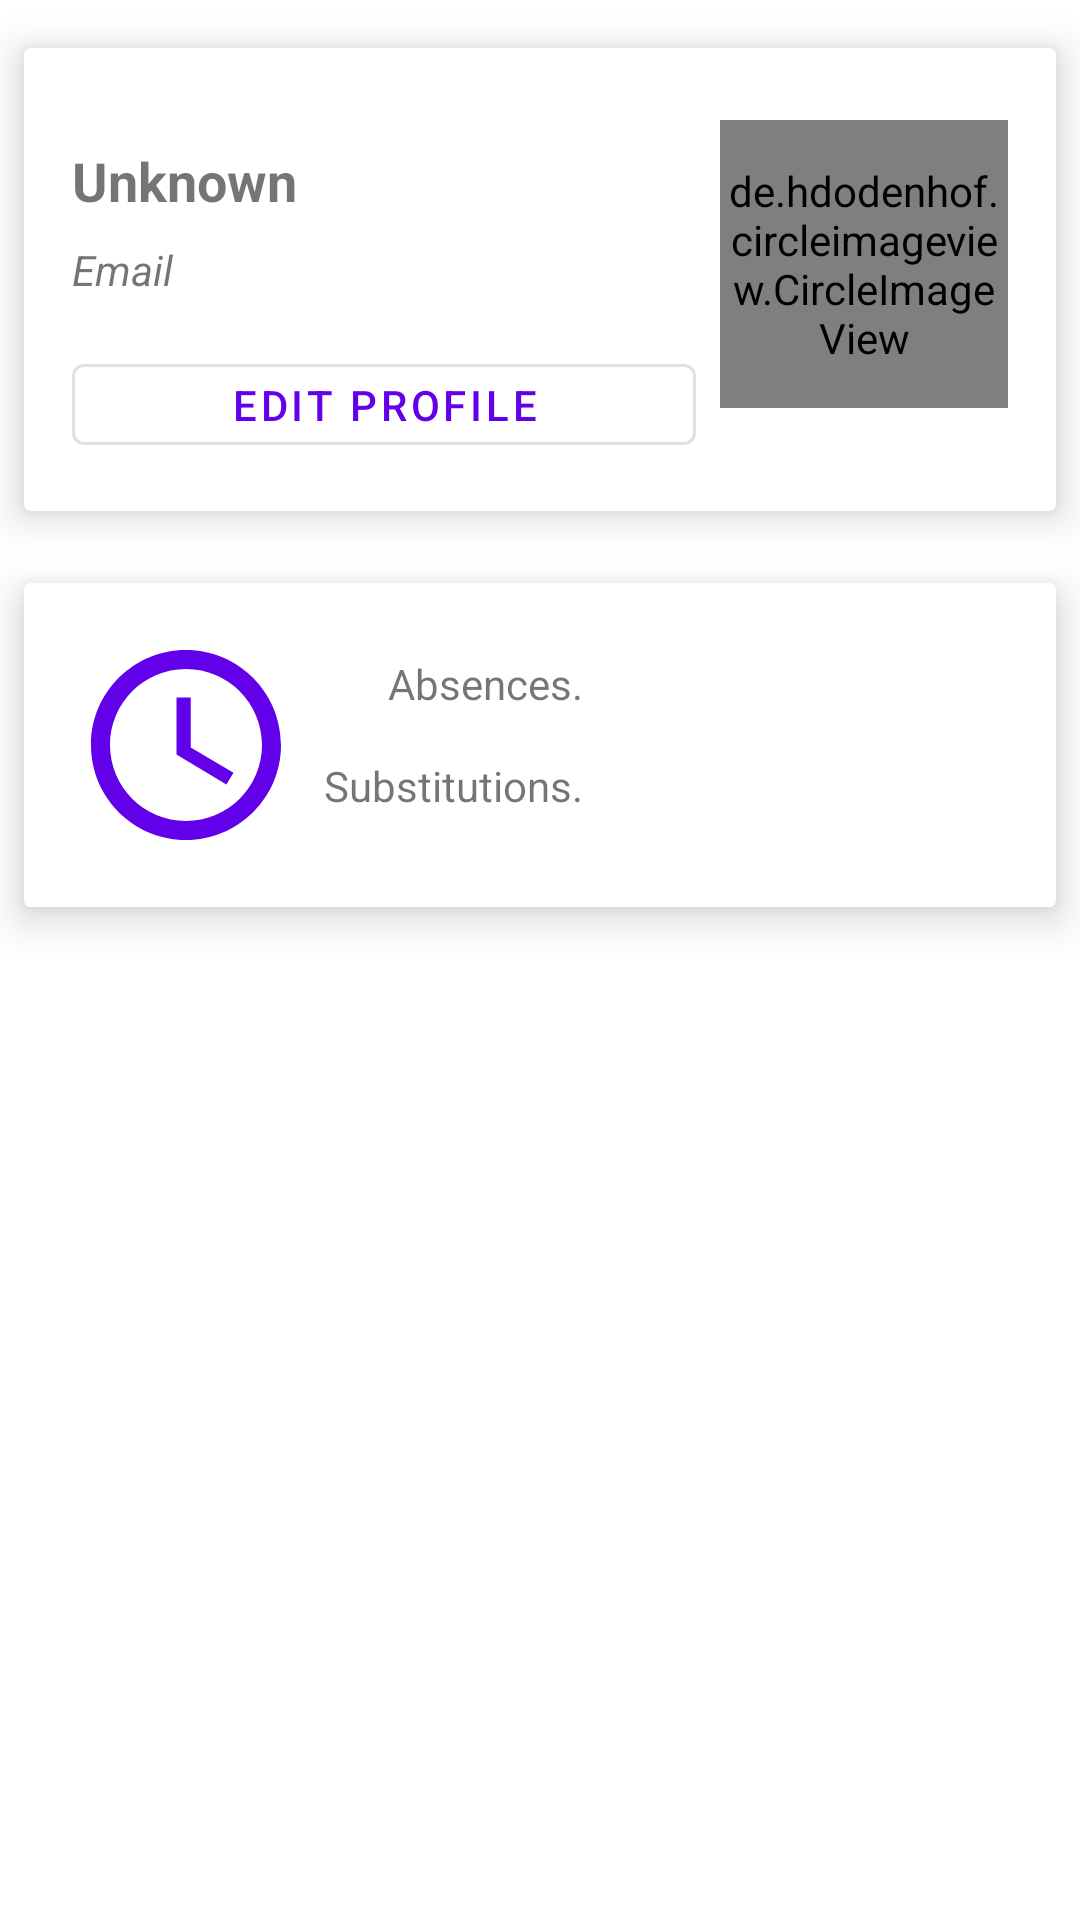

Icon click points for this 1080 x 1920 phone screenshot, format point (x, y):
schedule: point (185, 745)
